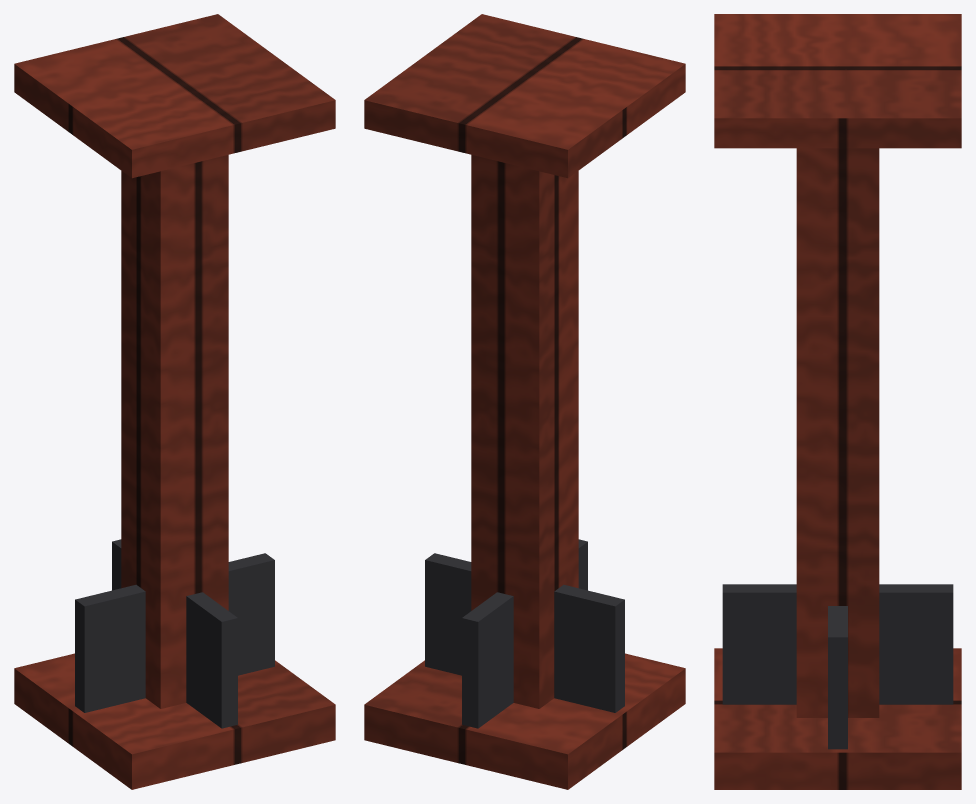
File: LanternStand.fbx
3 views of the same model, side by side, from view 1: azimuth 30°, elevation 25°; view 2: azimuth 150°, elevation 25°; view 3: azimuth 270°, elevation 25° (orthographic). The views are drawn at different scales.
Visible parts, largest first — view 1: LanternStand; view 2: LanternStand; view 3: LanternStand.
Part boxes in pixels (x1=…): LanternStand: x1=14, y1=14, x2=335, y2=789; LanternStand: x1=364, y1=14, x2=685, y2=789; LanternStand: x1=714, y1=14, x2=961, y2=789.
Size of the model in its own units: 0.3 by 0.9 by 0.3.
Materials: 2 (1 with a texture image).
